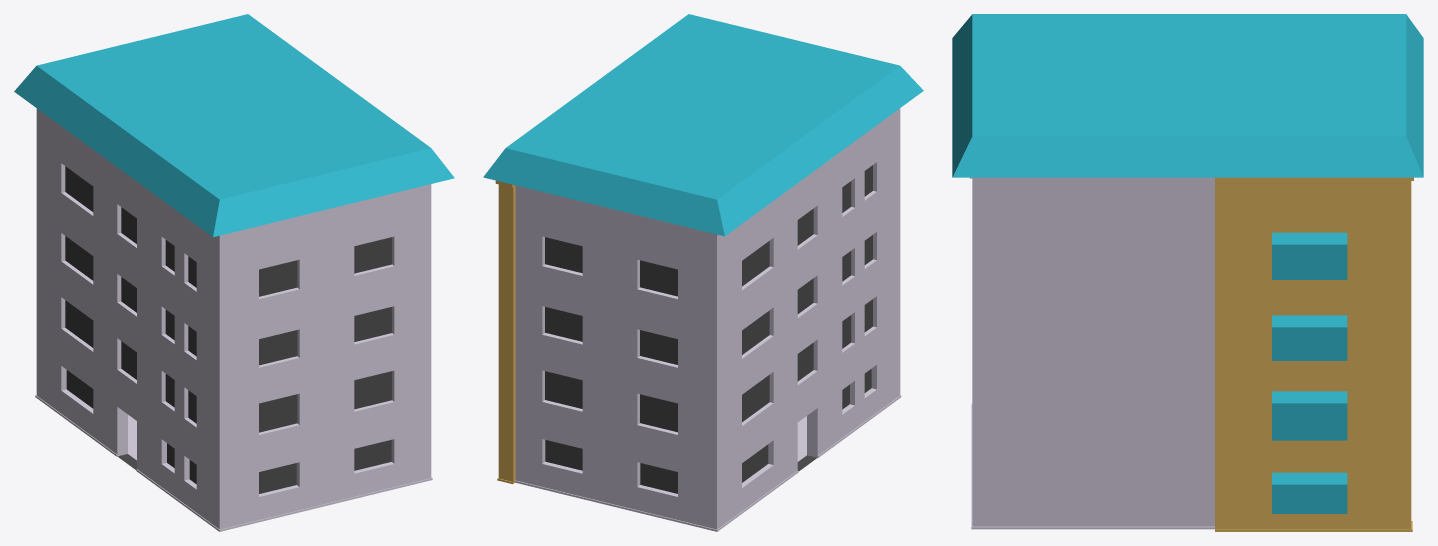
The model's file is small_hotel.fbx.
3 renders of one model, left to right at view 1: azimuth 30°, elevation 25°; view 2: azimuth 150°, elevation 25°; view 3: azimuth 270°, elevation 25°, orthographic. The views are drawn at different scales.
Visible parts, largest first — view 1: hotelSmall; view 2: hotelSmall; view 3: hotelSmall.
Boxes of the visible parts, bbox=[...] form: hotelSmall: bbox=[14, 14, 454, 531]; hotelSmall: bbox=[483, 14, 923, 531]; hotelSmall: bbox=[952, 14, 1423, 531].
Bounding box in the file's own units: 9.53 × 11.99 × 13.04.
